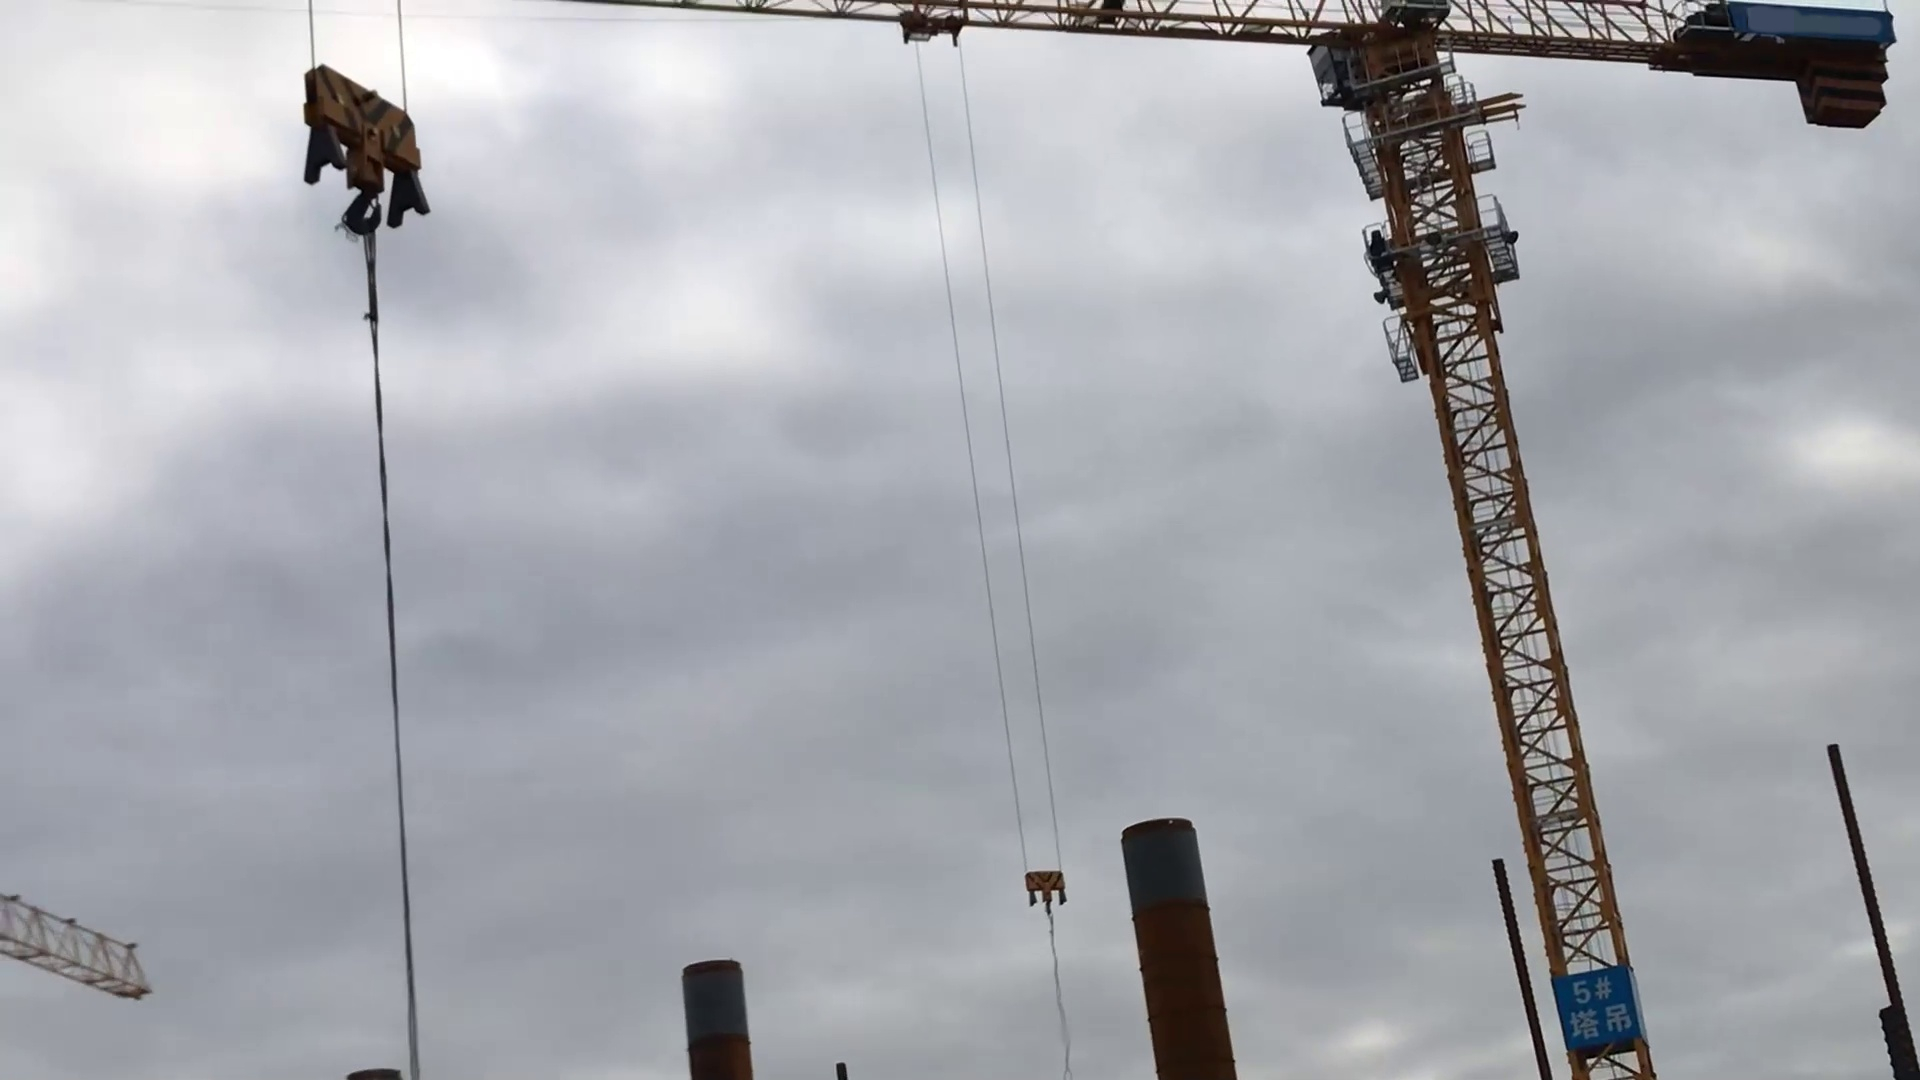hook: (282, 51, 444, 248), (1022, 866, 1075, 919)
slogan: (1545, 965, 1648, 1062)
